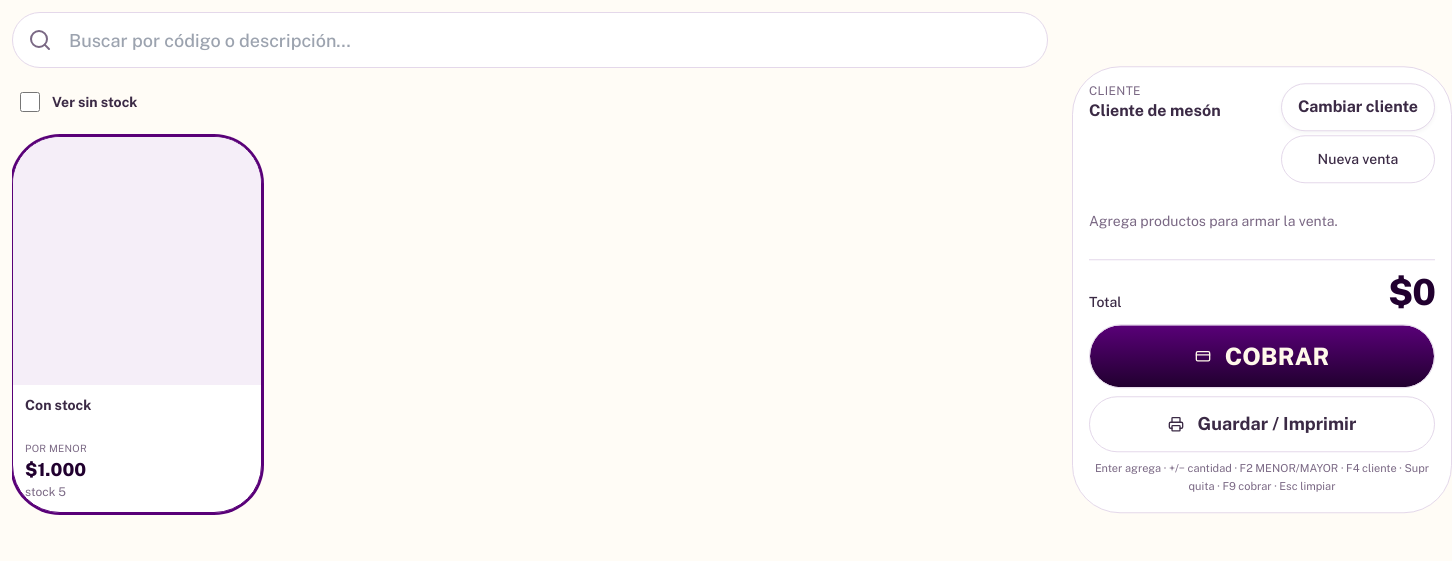
Test: pos-stock — lector / Enter con código exacto › código exacto sin stock con "Ver sin stock" encendido sí agrega
Expected: the button with test id "pos-producto-ST1" is shown, [12,136,262,513]
Click the checkbox labelled "Ver sin stock": point(30, 102) [20,92,40,112]
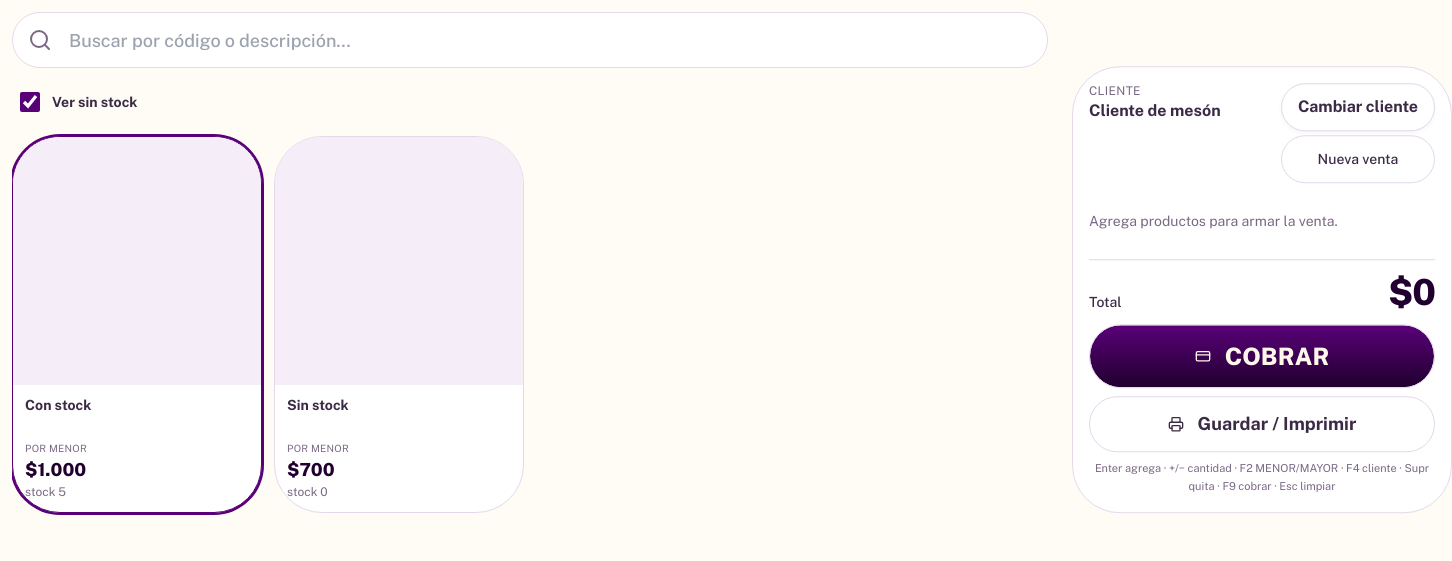
Expected: the button with test id "pos-producto-SS1" is shown, [274,136,524,513]
In the field with placeholder "Buscar por código o descripción…": point(530, 40) [12,12,1048,68], type "SS1"
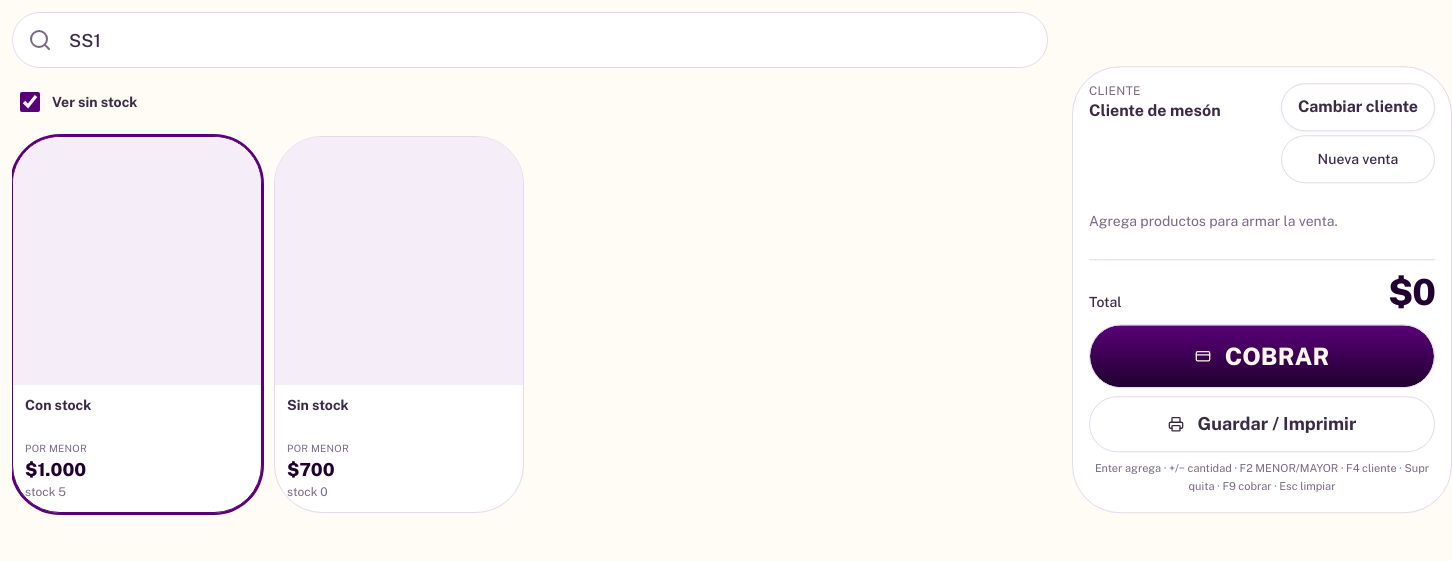
Press Enter in the field with placeholder "Buscar por código o descripción…", box [12,12,1048,68]
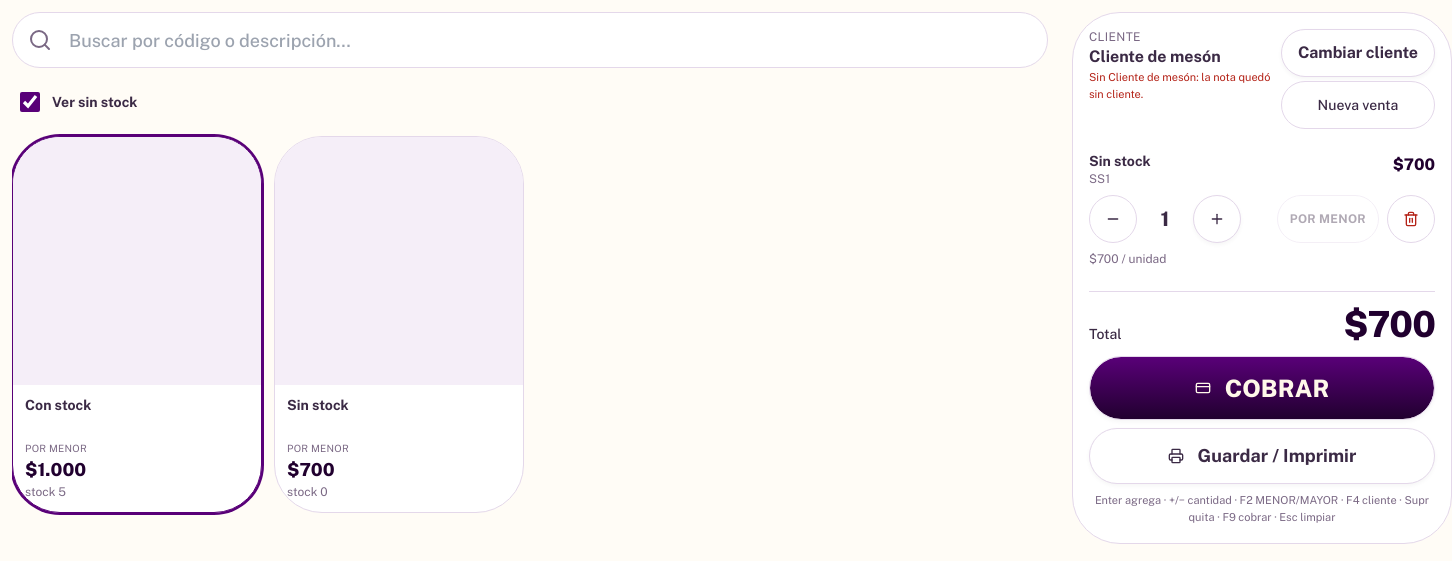
Expected: the text "SS1" is shown, [1089,172,1110,186]
